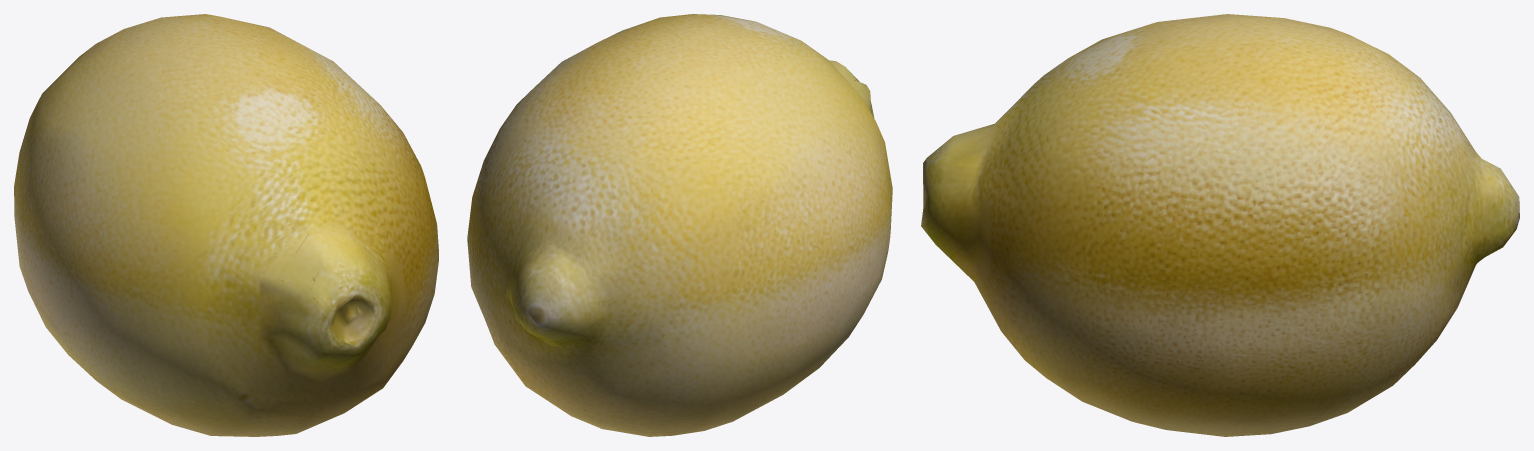
Rendered from Food_Lemon.fbx.
3 views of the same model, side by side, from view 1: azimuth 30°, elevation 25°; view 2: azimuth 150°, elevation 25°; view 3: azimuth 270°, elevation 25° (orthographic). The views are drawn at different scales.
Parts seen in each view (by area): view 1: Food_Lemon; view 2: Food_Lemon; view 3: Food_Lemon.
Part boxes in pixels (box(x1,y1,x2,y2)): Food_Lemon: box(14, 14, 438, 436); Food_Lemon: box(467, 14, 892, 436); Food_Lemon: box(921, 14, 1519, 436).
Size of the model in its own units: 0.1785 by 0.1836 by 0.26.
1 material, 1 textured.
